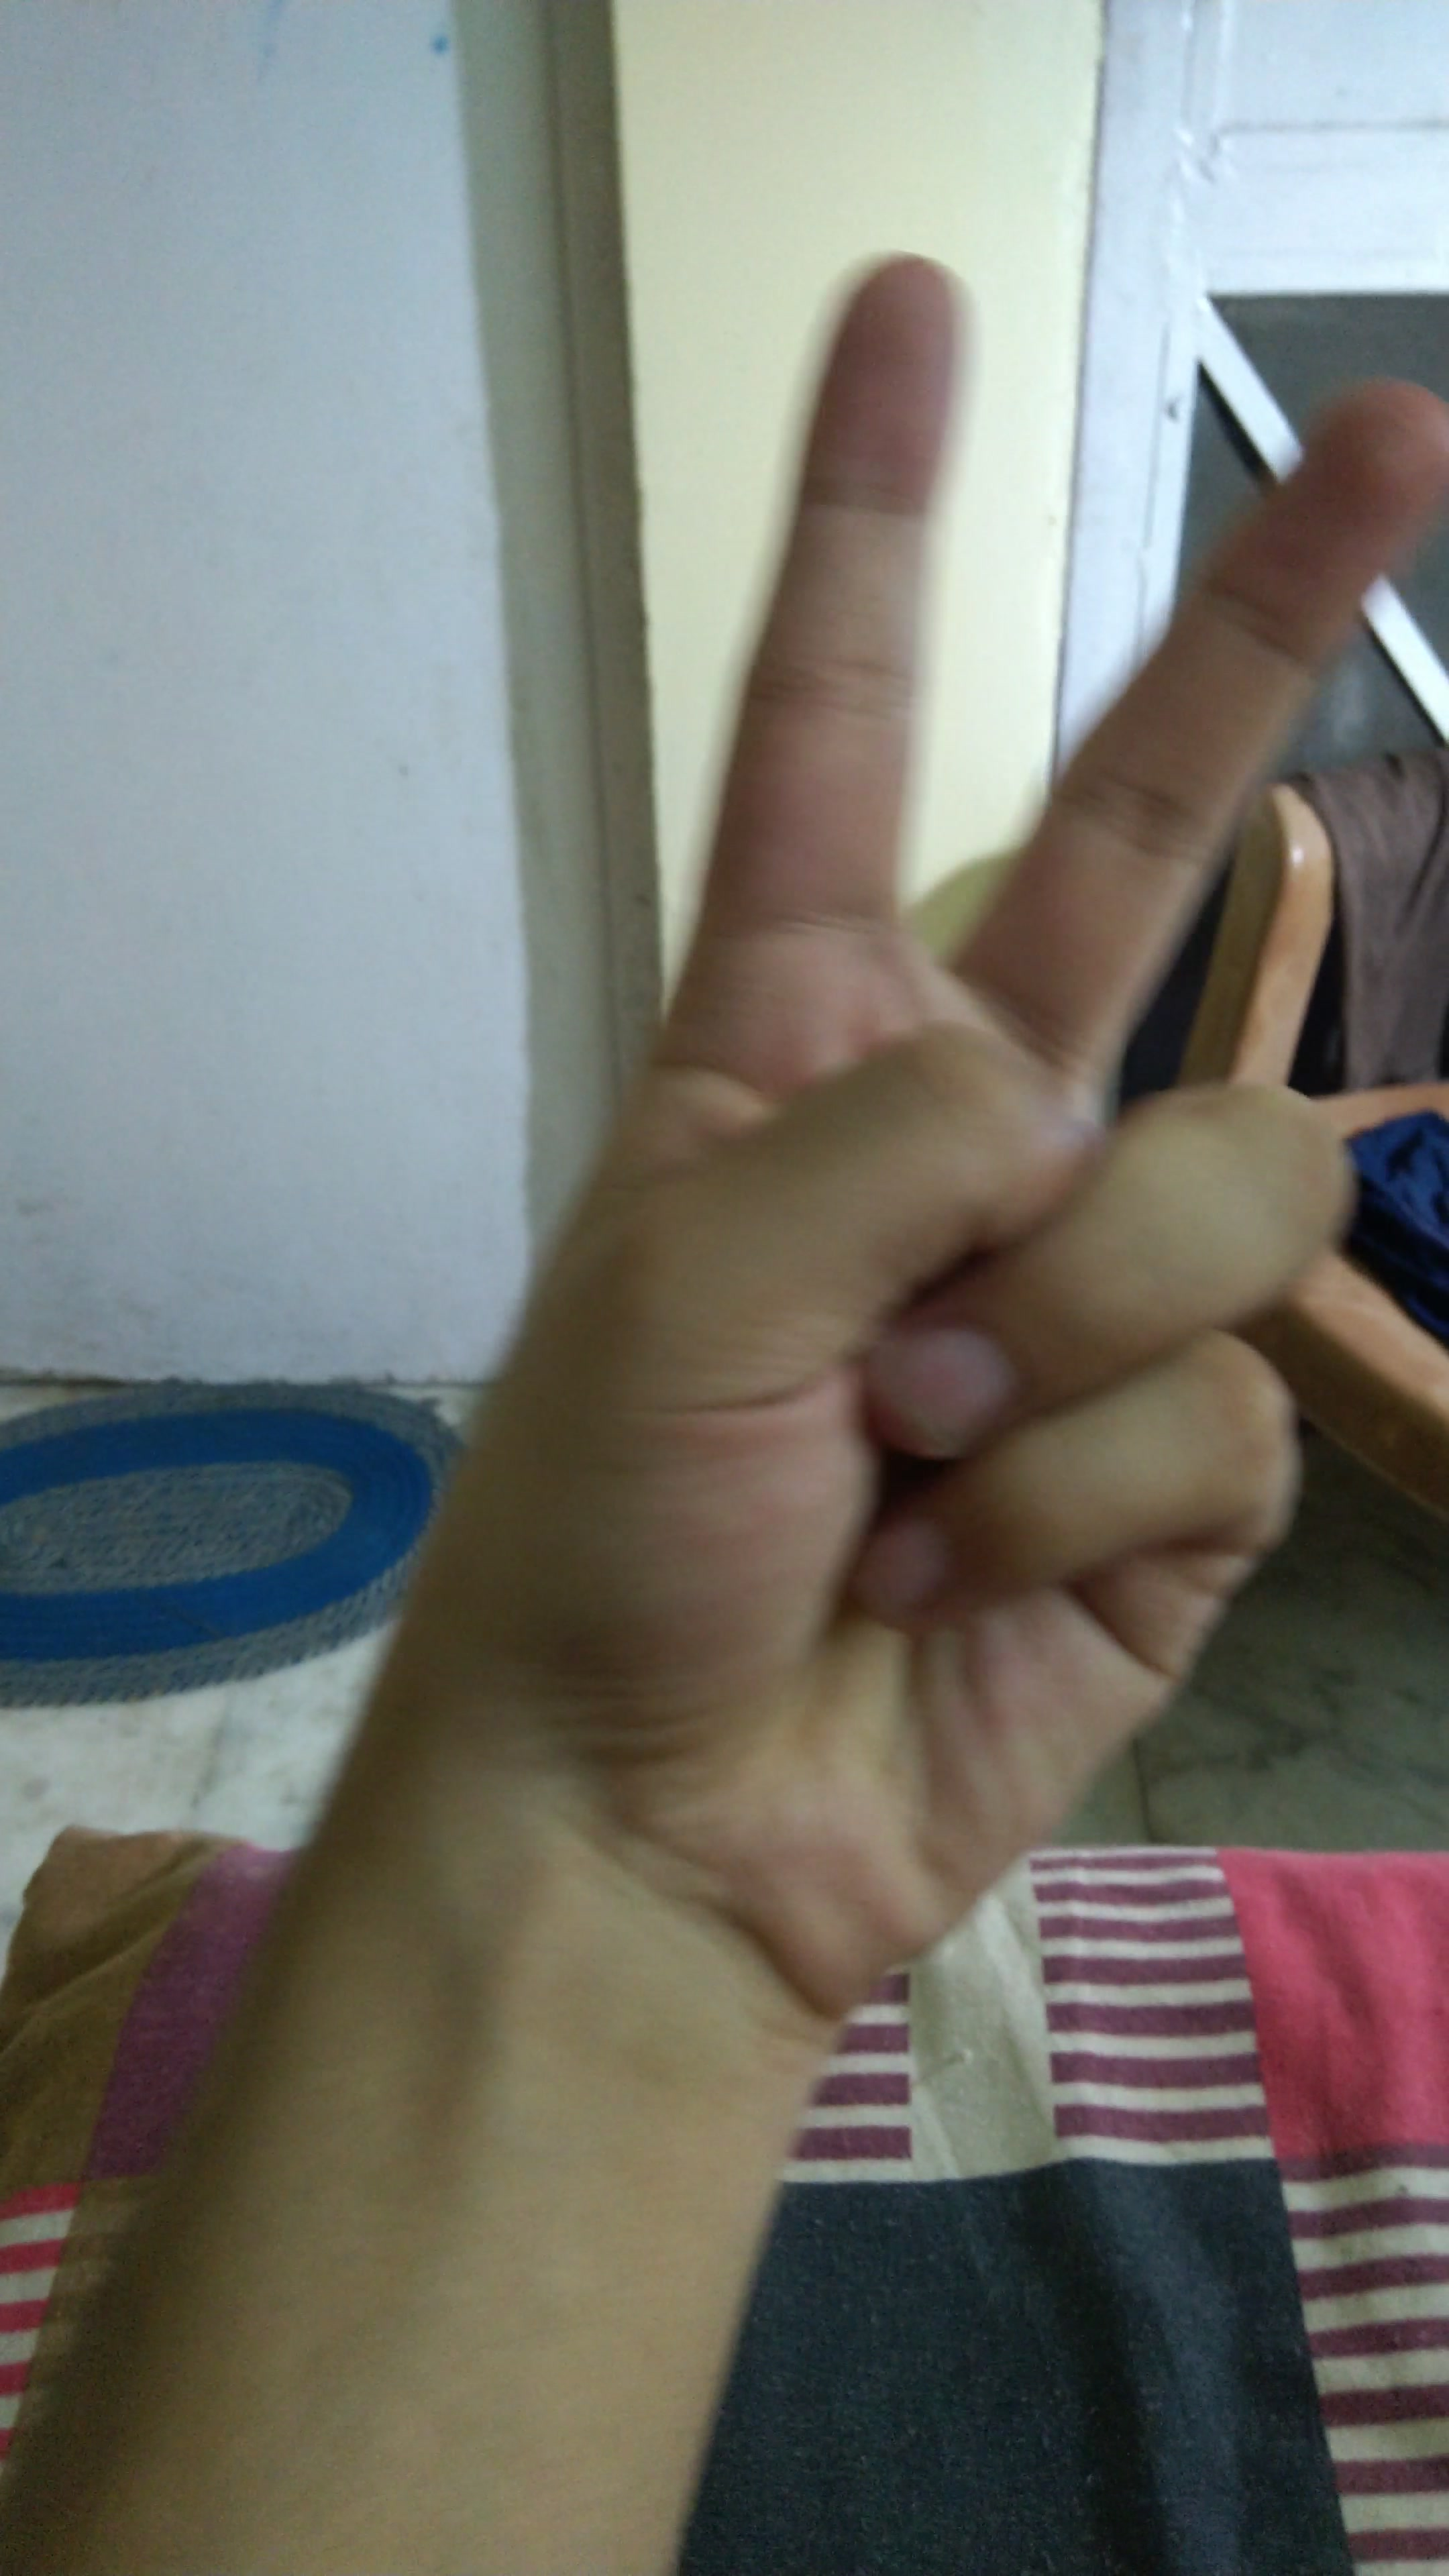hand: (340, 200, 1449, 2042)
